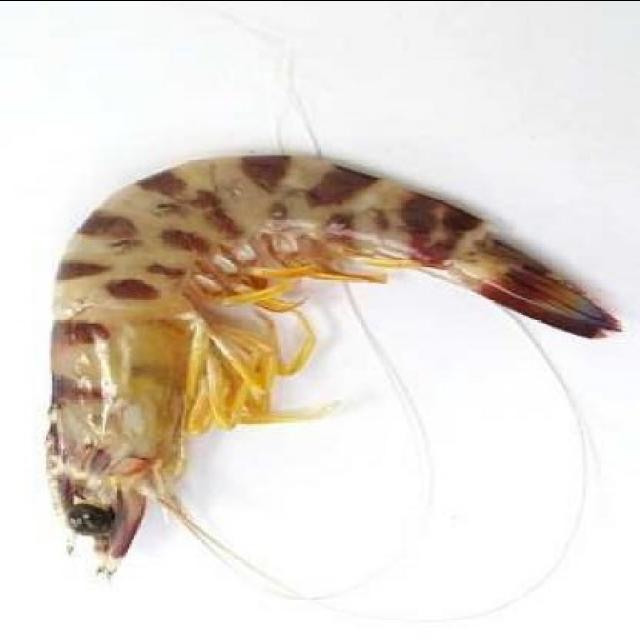shrimp: (33, 138, 622, 594)
